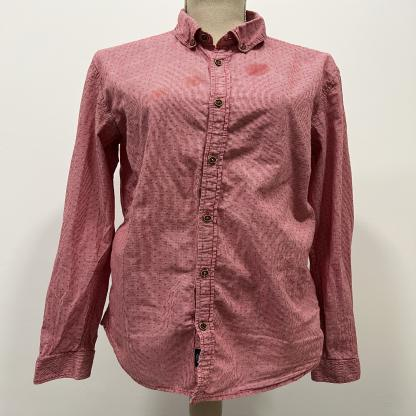stain: (244, 63, 271, 77), (182, 75, 204, 87), (149, 89, 169, 101)
